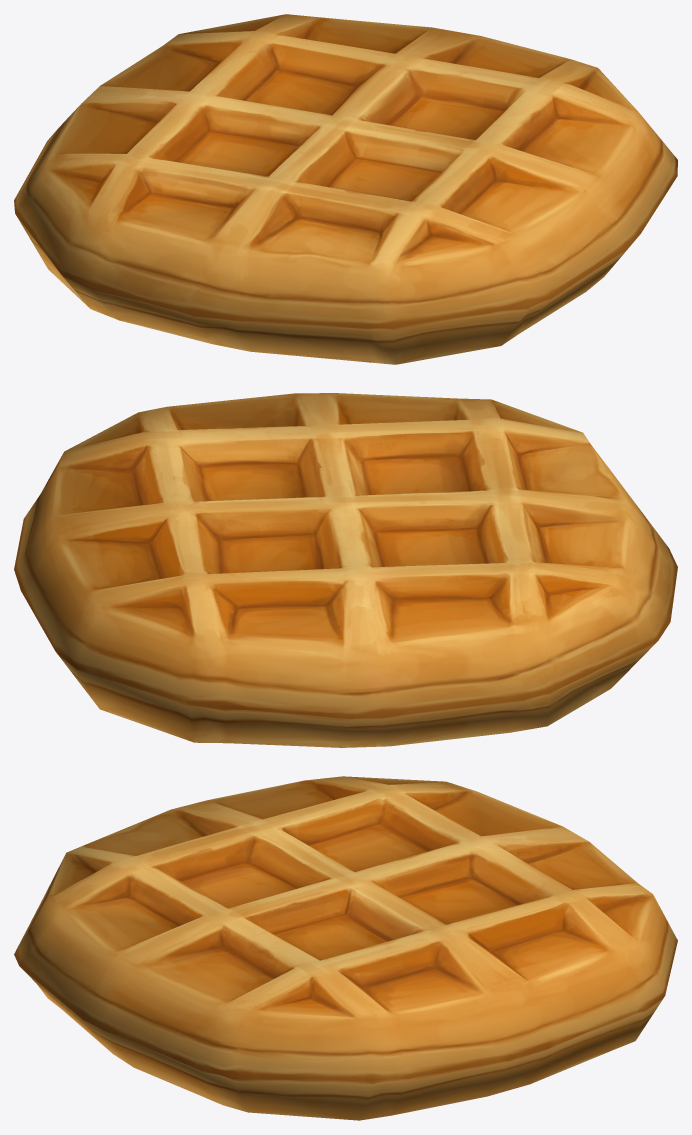
File: Waffle.fbx
3 renders of one model, top to bottom at view 1: azimuth 30°, elevation 25°; view 2: azimuth 150°, elevation 25°; view 3: azimuth 270°, elevation 25°, orthographic. The views are drawn at different scales.
Parts seen in each view (by area): view 1: Waffle; view 2: Waffle; view 3: Waffle.
Boxes of the visible parts, bbox=[...] form: Waffle: bbox=[14, 14, 677, 364]; Waffle: bbox=[14, 393, 677, 747]; Waffle: bbox=[14, 776, 677, 1120].
Bounding box in the file's own units: 0.2251 × 0.0525 × 0.2256.
